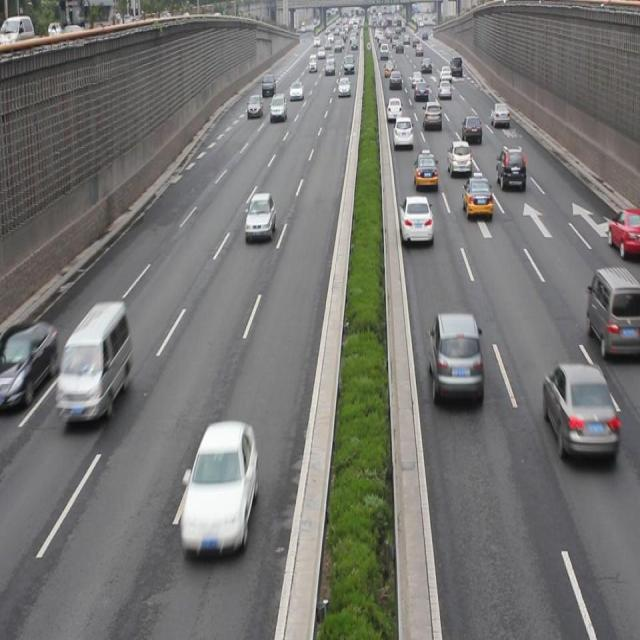car: (180, 421, 255, 554), (541, 360, 617, 459), (428, 309, 482, 404), (1, 317, 55, 407), (398, 194, 431, 245), (607, 205, 640, 256), (495, 144, 526, 194), (245, 190, 275, 240), (461, 174, 491, 220), (412, 149, 437, 190), (447, 138, 471, 177), (392, 114, 413, 150), (460, 112, 481, 144), (490, 99, 510, 129), (423, 100, 442, 130)
truck: (55, 302, 131, 421), (587, 266, 640, 356)
